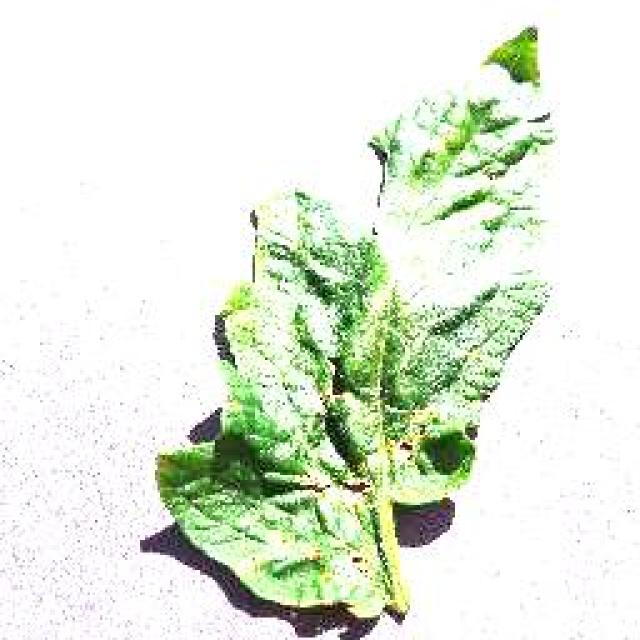Tomato___Target_Spot: (155, 70, 555, 615)
